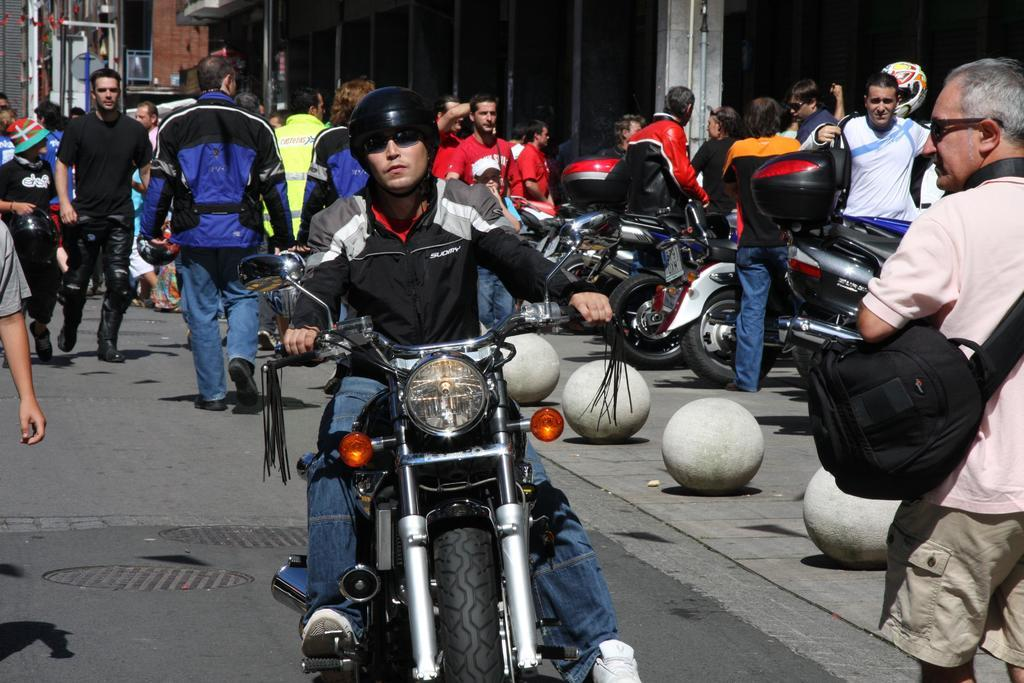helmet: (347, 86, 440, 186), (877, 61, 927, 119)
nohelmet: (922, 56, 1024, 194), (195, 54, 238, 104), (863, 72, 899, 128), (338, 79, 377, 127), (5, 117, 51, 157), (287, 85, 326, 127), (785, 77, 820, 123), (745, 96, 781, 140), (662, 85, 696, 129), (89, 67, 121, 113), (613, 113, 647, 150), (433, 96, 465, 135), (705, 106, 739, 141), (469, 93, 498, 134), (33, 100, 63, 131), (134, 100, 159, 132), (525, 119, 550, 149)
